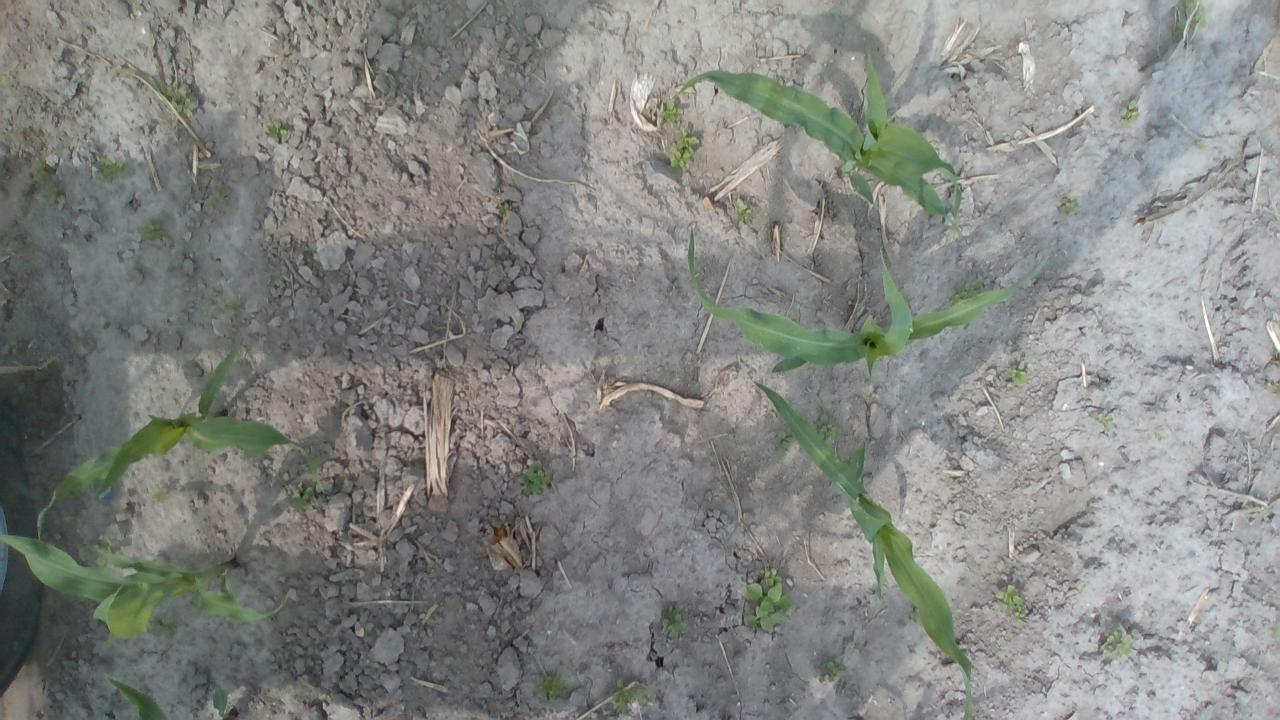Maize: (746, 374, 975, 717), (664, 48, 972, 253), (36, 340, 322, 552), (688, 226, 1056, 374), (0, 530, 296, 648), (95, 673, 168, 720)
Weeds: (741, 570, 792, 634), (610, 680, 651, 718), (1174, 1, 1206, 41), (34, 160, 61, 203), (1099, 627, 1132, 660), (168, 80, 198, 114), (671, 132, 698, 168), (816, 410, 840, 450), (287, 482, 316, 513), (998, 584, 1025, 616), (198, 183, 226, 212), (518, 468, 546, 494), (660, 608, 684, 636), (136, 223, 166, 243), (540, 677, 566, 700), (98, 160, 127, 180), (824, 659, 847, 683), (1122, 100, 1141, 126), (264, 123, 288, 143), (736, 194, 752, 221), (778, 431, 796, 454), (1010, 362, 1030, 382), (153, 486, 172, 504), (660, 106, 679, 124), (1098, 411, 1114, 428), (1058, 199, 1074, 212)
